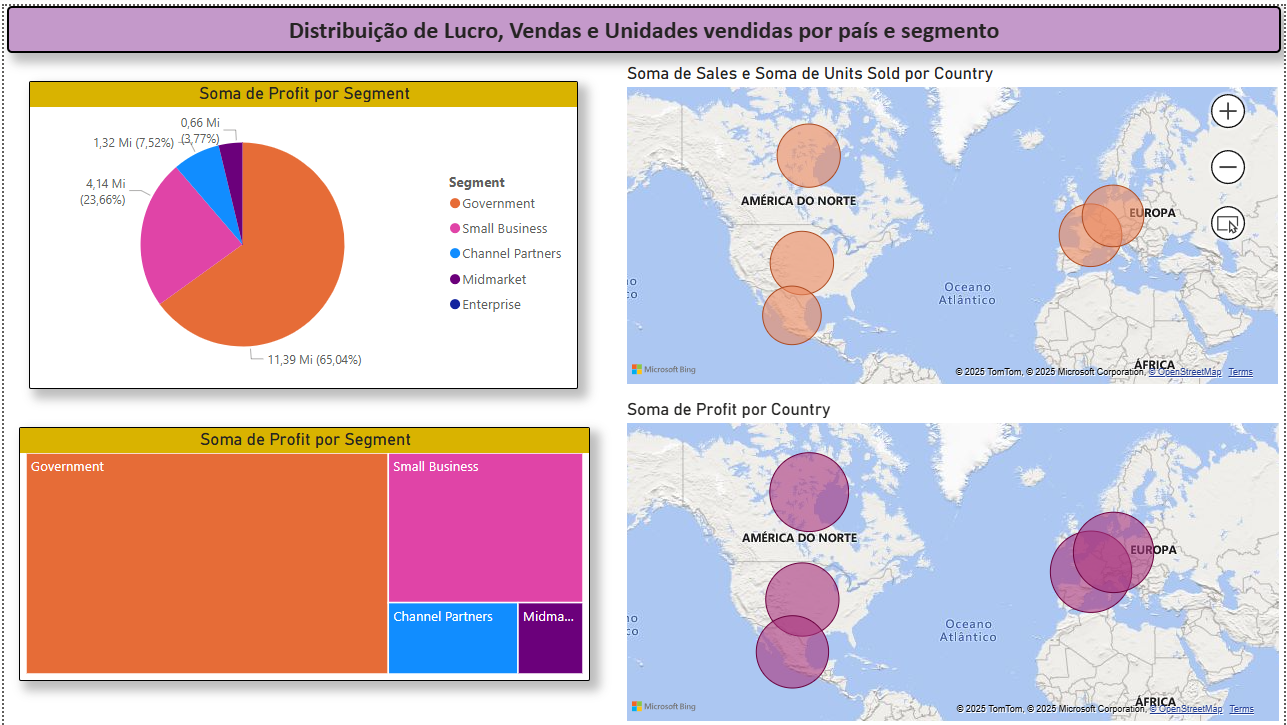

What the dashboard file says about the page in this screenshot:
{"tool":"powerbi","page":{"name":"Página 3","canvas":[1280,720],"ordinal":2},"visuals":[{"type":"pieChart","fields":{"Category":["financials.Segment"],"Y":["Sum(financials.Profit)"]},"box":[25.4,75.3,548.6,307.4],"z":0},{"type":"map","fields":{"Category":["financials.Country"],"Size":["Sum(financials.Sales)"]},"box":[617.5,57.1,662,325.5],"z":1000},{"type":"map","fields":{"Category":["financials.Country"],"Size":["Sum(financials.Profit)"]},"box":[618.4,392.6,662,327.4],"z":2000},{"type":"treemap","fields":{"Group":["financials.Segment"],"Values":["Sum(financials.Profit)"]},"box":[14.5,420.8,571.3,253.9],"z":3000},{"type":"textbox","box":[2.7,0,1274.1,47.2],"z":4000}]}

Visuals, with their boxes in screenshot pixels (x1, y1, x2, y2), scaled from the page's 1280x720 canvas onto the 1287x725 screenshot:
pieChart - financials.Segment x Sum(financials.Profit): BBox(26, 76, 577, 385)
map - financials.Country x Sum(financials.Sales): BBox(621, 57, 1286, 385)
map - financials.Country x Sum(financials.Profit): BBox(622, 395, 1286, 724)
treemap - financials.Segment x Sum(financials.Profit): BBox(15, 424, 589, 679)
textbox: BBox(3, 0, 1284, 48)
